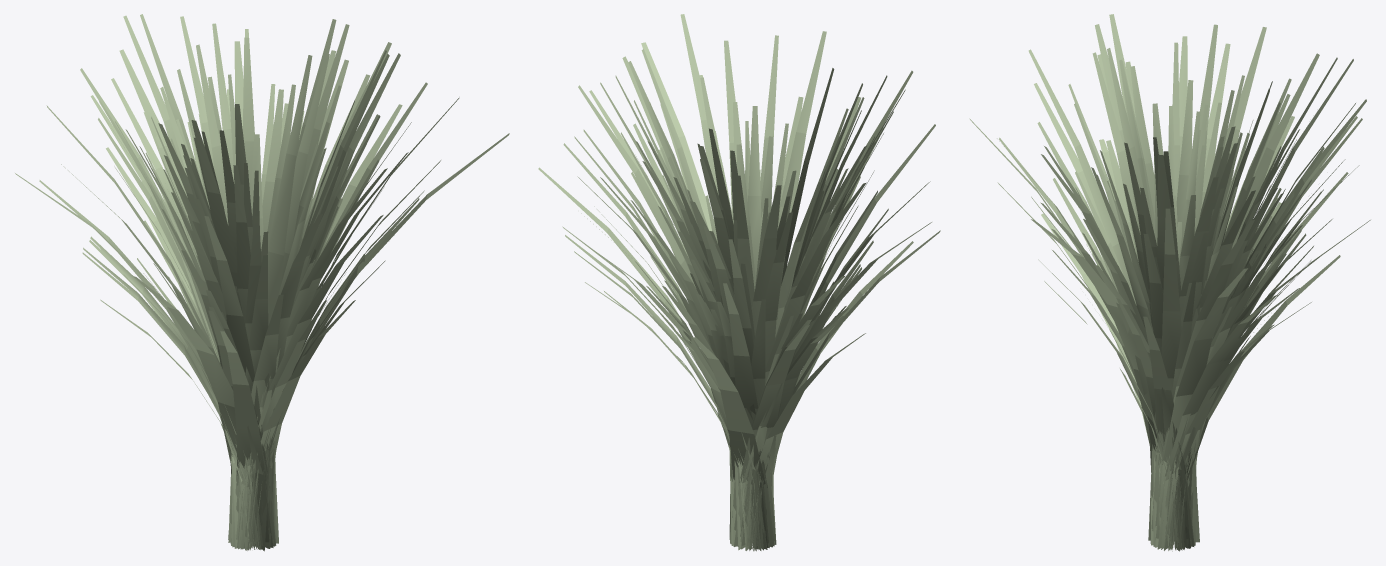
The model's file is layer_grass.glb.
3 views of the same model, side by side, from view 1: azimuth 30°, elevation 25°; view 2: azimuth 150°, elevation 25°; view 3: azimuth 270°, elevation 25° (orthographic). The views are drawn at different scales.
Parts seen in each view (by area): view 1: v0_foliage, v1_foliage, v2_foliage; view 2: v0_foliage, v1_foliage, v2_foliage; view 3: v0_foliage, v1_foliage, v2_foliage.
Part boxes in pixels (left/top/right/bottom): v0_foliage: left=15, top=14, right=509, bottom=551; v1_foliage: left=80, top=16, right=459, bottom=550; v2_foliage: left=115, top=23, right=354, bottom=550; v0_foliage: left=538, top=31, right=940, bottom=550; v1_foliage: left=563, top=14, right=888, bottom=551; v2_foliage: left=634, top=68, right=893, bottom=550; v0_foliage: left=969, top=14, right=1370, bottom=550; v1_foliage: left=997, top=24, right=1366, bottom=551; v2_foliage: left=1068, top=48, right=1285, bottom=551.
Bounding box in the file's own units: 0.8767 × 1 × 0.7773.
